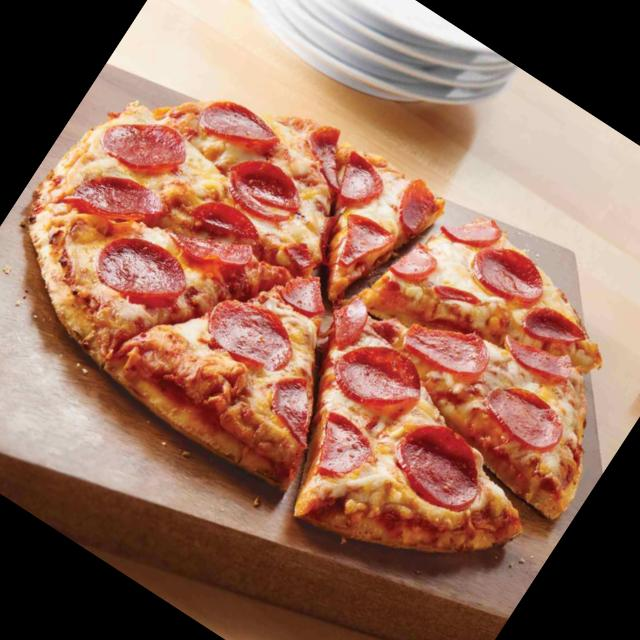pepperoni: (393, 424, 481, 513), (331, 341, 420, 424), (198, 300, 291, 375), (95, 237, 191, 308), (321, 203, 400, 284), (179, 199, 258, 275), (480, 387, 562, 454), (402, 328, 487, 387), (469, 243, 546, 308), (224, 159, 299, 224), (384, 170, 451, 242), (100, 123, 187, 178), (501, 327, 579, 385), (192, 101, 277, 151), (61, 176, 161, 218), (315, 409, 373, 478), (331, 151, 390, 212), (269, 374, 311, 445), (304, 125, 343, 200), (281, 263, 326, 322), (440, 216, 508, 255), (389, 238, 438, 288), (522, 310, 586, 345), (328, 297, 367, 351)
pizza: (19, 99, 600, 556)
